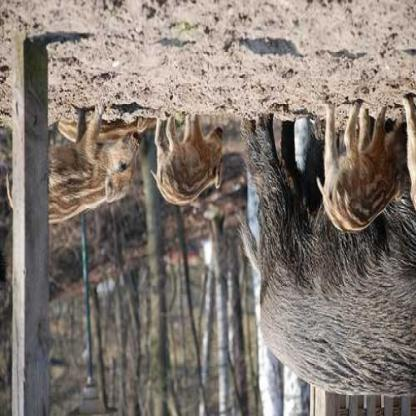boar: (240, 137, 415, 416), (0, 117, 153, 223), (325, 84, 415, 244), (134, 112, 243, 234)
